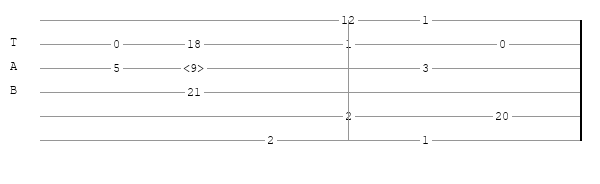0: (113, 38, 124, 50), (499, 38, 510, 50)
1: (345, 38, 356, 50), (422, 134, 433, 146), (422, 14, 433, 26)
12: (341, 14, 359, 26)
18: (187, 38, 205, 50)
2: (267, 134, 278, 146), (345, 110, 356, 122)
20: (495, 110, 513, 122)
21: (187, 86, 205, 98)
3: (422, 62, 433, 74)
5: (113, 62, 124, 74)
harmonic: (183, 62, 208, 75)
